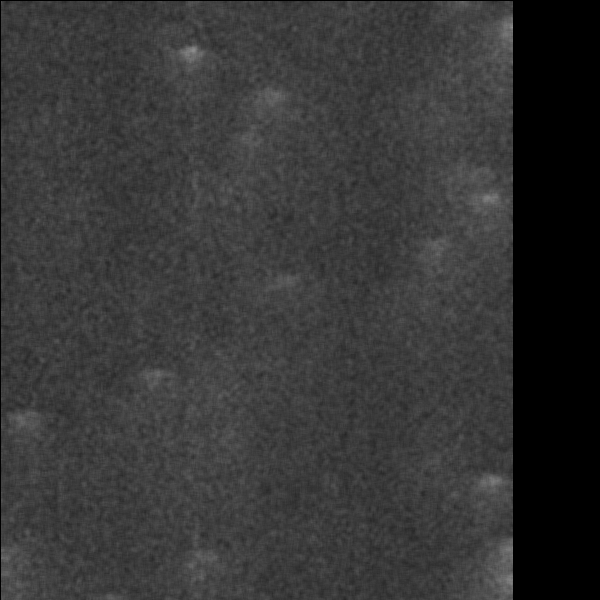spark: (195, 491, 261, 524), (468, 107, 496, 165)
